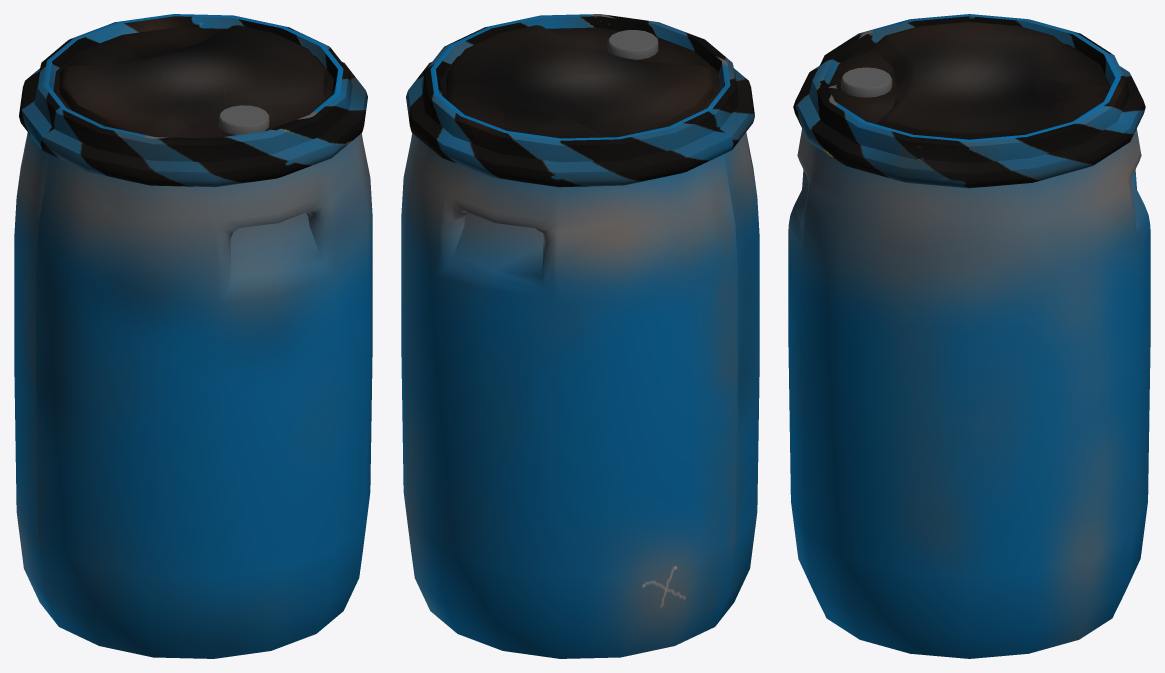
The model's file is water barrel.fbx.
3 views of the same model, side by side, from view 1: azimuth 30°, elevation 25°; view 2: azimuth 150°, elevation 25°; view 3: azimuth 270°, elevation 25° (orthographic).
Visible parts, largest first — view 1: WaterBarrel; view 2: WaterBarrel; view 3: WaterBarrel.
Part boxes in pixels (x1=…): WaterBarrel: x1=14, y1=14, x2=372, y2=658; WaterBarrel: x1=401, y1=14, x2=759, y2=658; WaterBarrel: x1=788, y1=14, x2=1150, y2=658.
Bounding box in the file's own units: 38.25 × 60.34 × 38.25.
